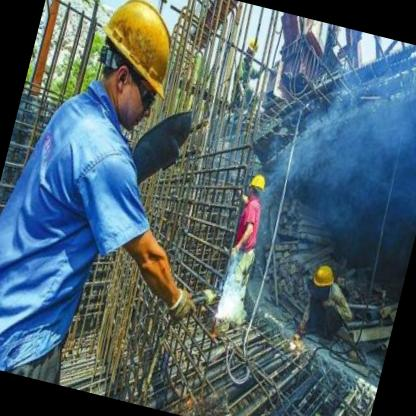helmet: (77, 0, 195, 140), (308, 262, 338, 300), (245, 168, 270, 203), (242, 32, 263, 66)
